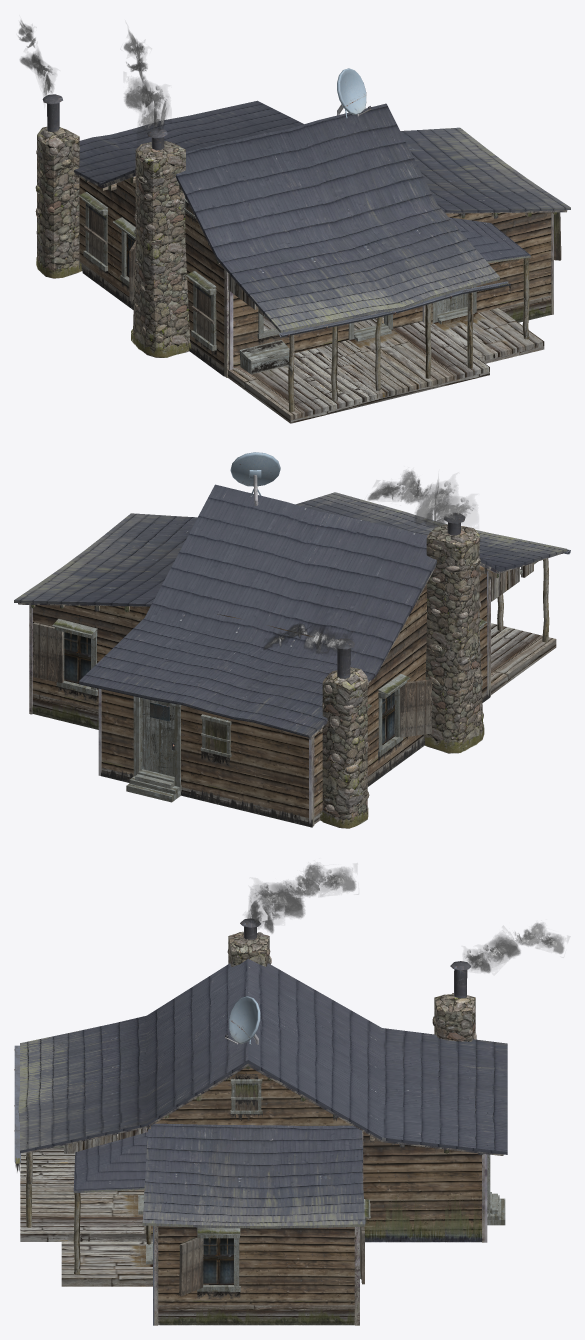
File: cabane3.glb
3 views of the same model, one above another, from view 1: azimuth 30°, elevation 25°; view 2: azimuth 150°, elevation 25°; view 3: azimuth 270°, elevation 25° (orthographic). The views are drawn at different scales.
Parts seen in each view (by area): view 1: Cabane, Cabin8_T_Smoke_0, Cabin8_T_Doors_Windows_Crate_0, Cabin8_Decal3_0, Cabin8_Decal7_0, Cabin8_Decal_Windows_0, Cabin8_Decal4_0; view 2: Cabane, Cabin8_T_Doors_Windows_Crate_0, Cabin8_T_Smoke_0, Cabin8_Decal3_0, Cabin8_smoke2_0, Cabin8_Decal4_0; view 3: Cabane, Cabin8_T_Smoke_0, Cabin8_Decal2_0, Cabin8_Decal3_0, Cabin8_T_Doors_Windows_Crate_0, Cabin8_smoke2_0, Cabin8_Decal7_0.
Part boxes in pixels (x1=…): Cabane: x1=19, y1=21, x2=570, y2=423; Cabin8_T_Smoke_0: x1=19, y1=23, x2=166, y2=132; Cabin8_T_Doors_Windows_Crate_0: x1=126, y1=234, x2=467, y2=374; Cabin8_Decal3_0: x1=79, y1=177, x2=558, y2=322; Cabin8_Decal7_0: x1=349, y1=312, x2=487, y2=350; Cabin8_Decal_Windows_0: x1=86, y1=258, x2=288, y2=373; Cabin8_Decal4_0: x1=36, y1=258, x2=190, y2=356; Cabane: x1=14, y1=452, x2=570, y2=828; Cabin8_T_Doors_Windows_Crate_0: x1=64, y1=632, x2=394, y2=776; Cabin8_T_Smoke_0: x1=264, y1=483, x2=473, y2=653; Cabin8_Decal3_0: x1=32, y1=597, x2=485, y2=753; Cabin8_smoke2_0: x1=286, y1=472, x2=427, y2=637; Cabin8_Decal4_0: x1=321, y1=726, x2=483, y2=827; Cabane: x1=14, y1=865, x2=563, y2=1325; Cabin8_T_Smoke_0: x1=248, y1=870, x2=563, y2=972; Cabin8_Decal2_0: x1=165, y1=1066, x2=482, y2=1241; Cabin8_Decal3_0: x1=159, y1=1199, x2=368, y2=1324; Cabin8_T_Doors_Windows_Crate_0: x1=203, y1=1238, x2=233, y2=1284; Cabin8_smoke2_0: x1=290, y1=865, x2=543, y2=945; Cabin8_Decal7_0: x1=104, y1=1195, x2=152, y2=1266.
Bounding box in the file's own units: 11.62 × 8.58 × 14.24.
Materials: 16 (15 with a texture image).
